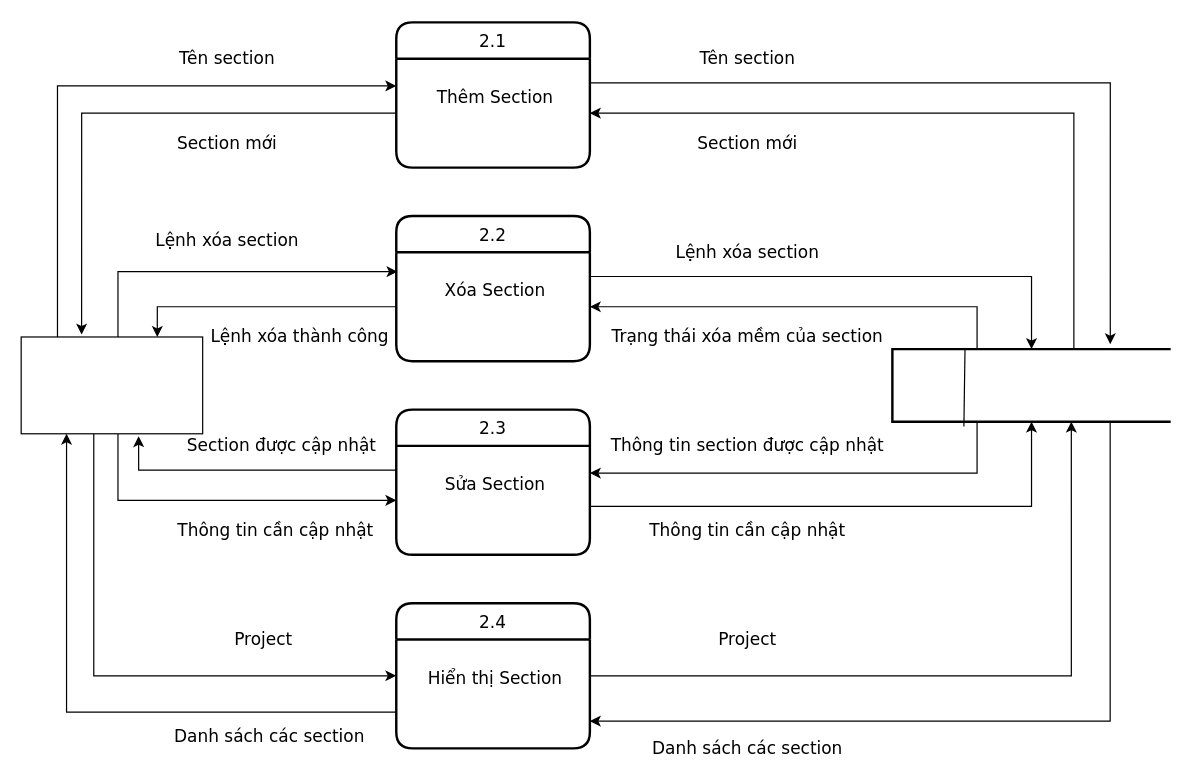
The diagram is 1193 pixels wide and 780 high, and some of its shapes have lost their labels. The centre of each missing label's shape, as x and y in pixels:
Section: the point at 1031,384
User: the point at 111,385
